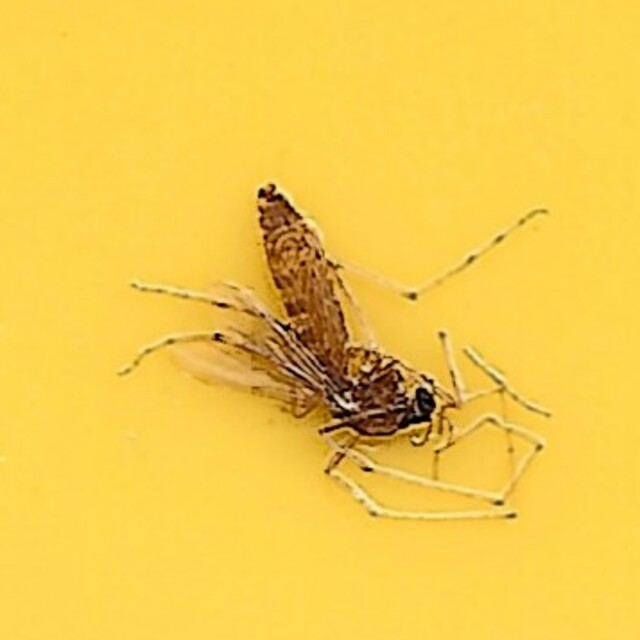Nematocera: (179, 177, 461, 463)
